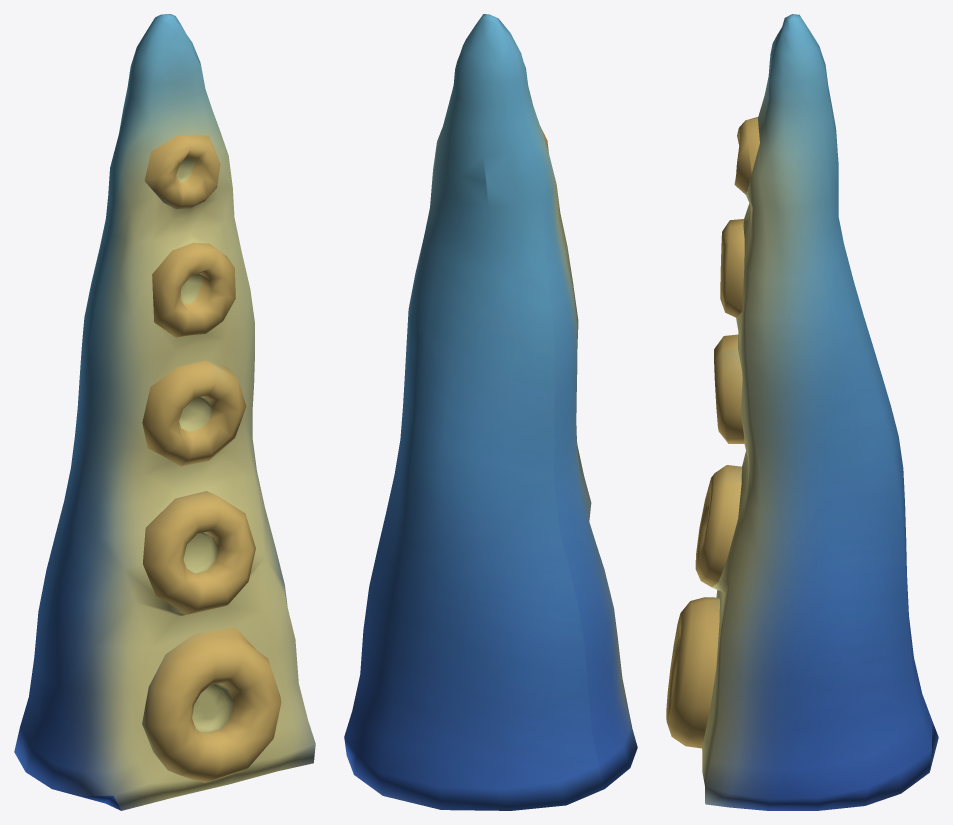
File: BlueTenacle.fbx
3 renders of one model, left to right at view 1: azimuth 30°, elevation 25°; view 2: azimuth 150°, elevation 25°; view 3: azimuth 270°, elevation 25°, orthographic.
Visible parts, largest first — view 1: tentacles; view 2: tentacles; view 3: tentacles.
Part boxes in pixels (x1=…): tentacles: x1=14, y1=14, x2=315, y2=810; tentacles: x1=344, y1=14, x2=637, y2=810; tentacles: x1=666, y1=14, x2=938, y2=810.
Size of the model in its own units: 1.75 by 4.91 by 1.64.
Materials: 1 (1 with a texture image).
